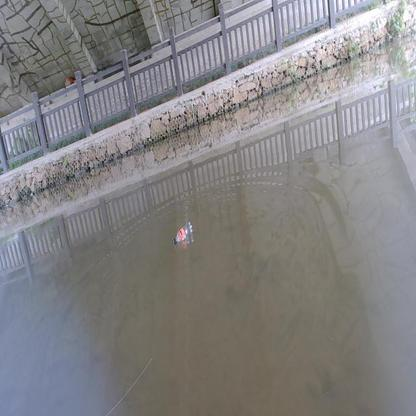plastic bottle: (173, 221, 193, 242)
